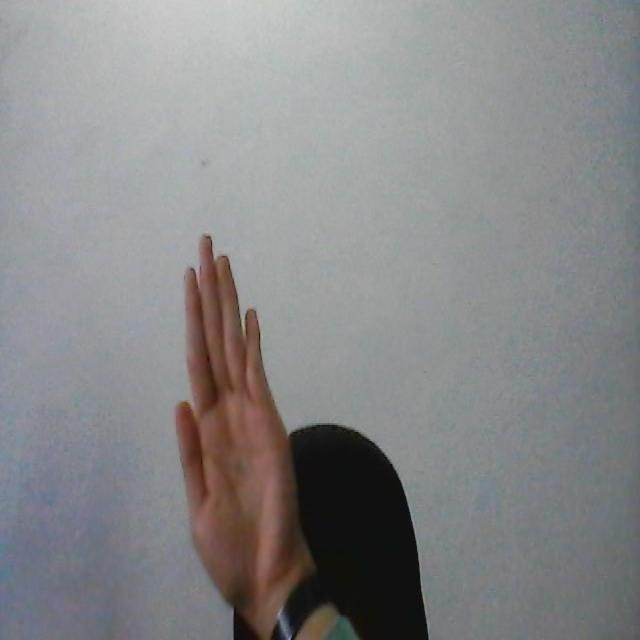hand: (174, 226, 314, 640)
